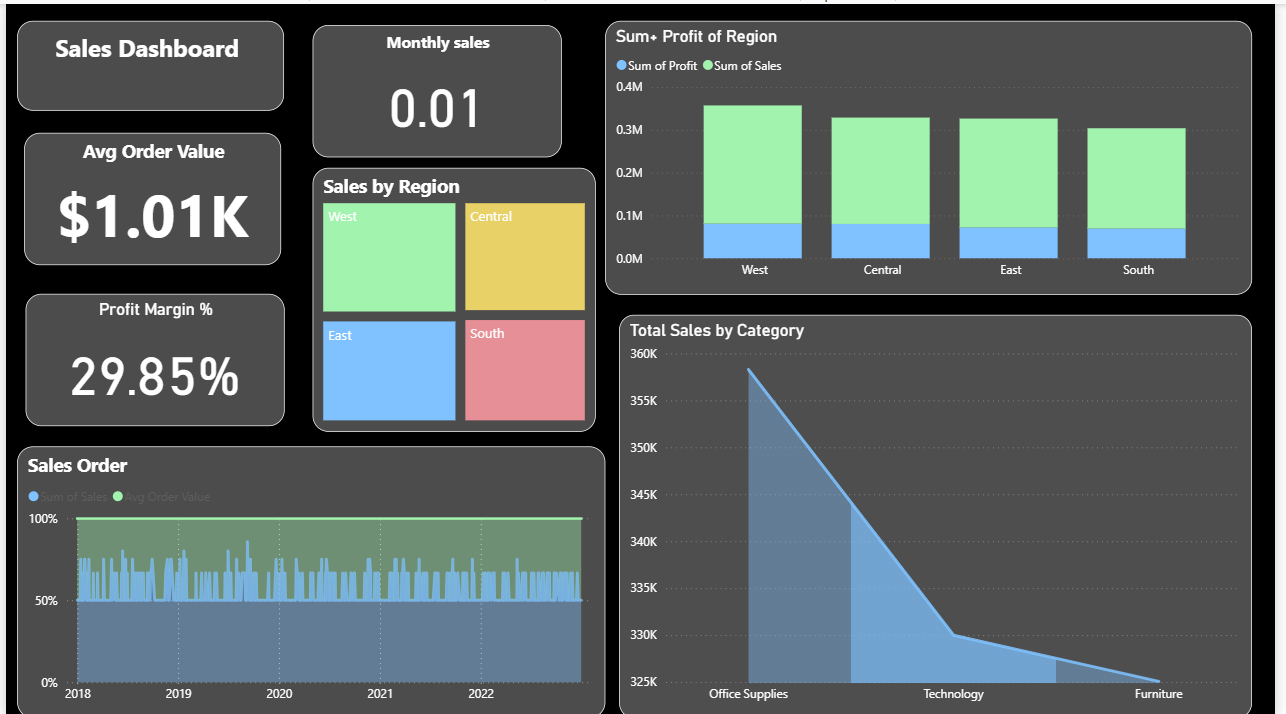

This screenshot's page, from the dashboard's own definition file:
{"tool":"powerbi","page":{"name":"Page 1","canvas":[1280,720],"ordinal":0},"visuals":[{"type":"card","title":"Avg Order Value","fields":{"Values":["Superstore_Sales_Sample.Avg Order Value"]},"box":[18.2,130.6,259.5,133.9],"z":0},{"type":"card","title":"Profit Margin %","fields":{"Values":["Superstore_Sales_Sample.Profit Margin %"]},"box":[19.8,292.6,261.2,133.9],"z":1000},{"type":"columnChart","title":"Sum+ Profit of Region","fields":{"Y":["Sum(Superstore_Sales_Sample.Profit)","Sum(Superstore_Sales_Sample.Sales)"],"Category":["Superstore_Sales_Sample.Region"]},"box":[605.1,16.5,653,276.1],"z":2000},{"type":"lineChart","fields":{"Y":["Superstore_Sales_Sample.Total Sales"],"Category":["Superstore_Sales_Sample.Category"]},"box":[618.8,313.7,638.6,406.9],"z":3000},{"type":"treemap","title":" Sales by Region","fields":{"Group":["Superstore_Sales_Sample.Region"],"Values":["Superstore_Sales_Sample.Total Sales"]},"box":[309.1,165.3,286,266.2],"z":4000},{"type":"hundredPercentStackedAreaChart","title":"Sales Order","fields":{"Y":["Sum(Superstore_Sales_Sample.Sales)","Sum(Superstore_Sales_Sample.Sales)","Superstore_Sales_Sample.Avg Order Value"],"Category":["Superstore_Sales_Sample.Order Date.Variation.Date Hierarchy.Year","Superstore_Sales_Sample.Order Date.Variation.Date Hierarchy.Quarter","Superstore_Sales_Sample.Order Date.Variation.Date Hierarchy.Month","Superstore_Sales_Sample.Order Date.Variation.Date Hierarchy.Day"]},"box":[11.6,446.3,593.5,274.4],"z":5000},{"type":"card","title":"Monthly sales","fields":{"Values":["Superstore_Sales_Sample.MoM Sales Growth %"]},"box":[309.1,21.5,251.3,133.9],"z":6000},{"type":"textbox","box":[11.6,16.5,269.5,90.9],"z":7000}]}

Visuals, with their boxes in screenshot pixels (x1, y1, x2, y2), scaled from the page's 1280x720 canvas onto the 1286x714 screenshot:
"Avg Order Value" card: left=18, top=130, right=279, bottom=262
"Profit Margin %" card: left=20, top=290, right=282, bottom=423
"Sum+ Profit of Region" columnChart: left=608, top=16, right=1264, bottom=290
lineChart - Superstore_Sales_Sample.Total Sales x Superstore_Sales_Sample.Category: left=622, top=311, right=1263, bottom=713
" Sales by Region" treemap: left=311, top=164, right=598, bottom=428
"Sales Order" hundredPercentStackedAreaChart: left=12, top=443, right=608, bottom=713
"Monthly sales" card: left=311, top=21, right=563, bottom=154
textbox: left=12, top=16, right=282, bottom=107
